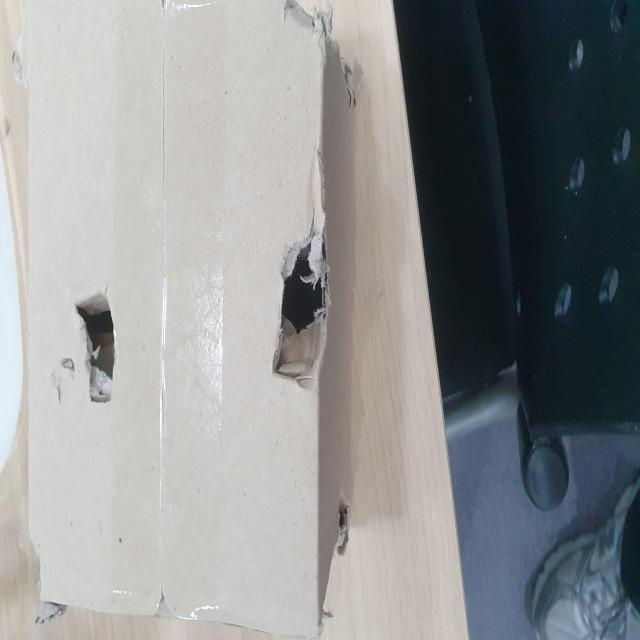damaged: (120, 556, 227, 640)
